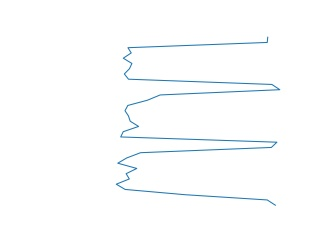majorRiverChannelBar: (114, 37, 285, 206)
